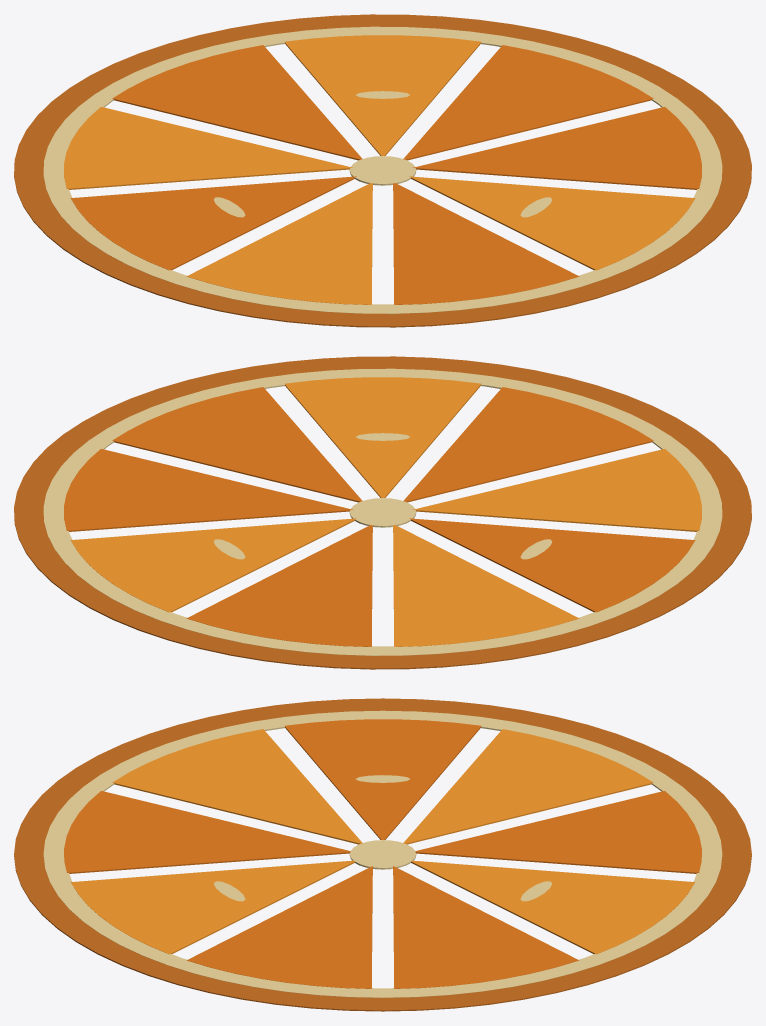
Rendered from fruit.glb.
3 views of the same model, one above another, from view 1: azimuth 30°, elevation 25°; view 2: azimuth 150°, elevation 25°; view 3: azimuth 270°, elevation 25° (orthographic).
Parts seen in each view (by area): view 1: OrangeRind.002, PithRing.002, JuiceSegment03.002, JuiceSegment08.002, JuiceSegment02.002, JuiceSegment00.002, JuiceSegment05.002, JuiceSegment06.002, JuiceSegment04.002, JuiceSegment07.002, JuiceSegment01.002, Core.002; view 2: OrangeRind.002, PithRing.002, JuiceSegment00.002, JuiceSegment05.002, JuiceSegment06.002, JuiceSegment08.002, JuiceSegment02.002, JuiceSegment03.002, JuiceSegment01.002, JuiceSegment04.002, JuiceSegment07.002, Core.002; view 3: OrangeRind.002, PithRing.002, JuiceSegment02.002, JuiceSegment06.002, JuiceSegment03.002, JuiceSegment05.002, JuiceSegment00.002, JuiceSegment08.002, JuiceSegment04.002, JuiceSegment01.002, JuiceSegment07.002, Core.002.
Boxes of the visible parts, x1,y1,x2,y2 form: OrangeRind.002: [14, 14, 751, 327]; PithRing.002: [43, 26, 722, 313]; JuiceSegment03.002: [64, 107, 353, 189]; JuiceSegment08.002: [412, 107, 701, 189]; JuiceSegment02.002: [112, 45, 362, 160]; JuiceSegment00.002: [403, 45, 653, 160]; JuiceSegment05.002: [186, 183, 372, 304]; JuiceSegment06.002: [393, 183, 579, 304]; JuiceSegment04.002: [70, 176, 356, 270]; JuiceSegment07.002: [409, 176, 695, 270]; JuiceSegment01.002: [284, 35, 481, 155]; Core.002: [349, 156, 416, 185]; OrangeRind.002: [14, 356, 751, 669]; PithRing.002: [43, 368, 722, 655]; JuiceSegment00.002: [64, 449, 353, 531]; JuiceSegment05.002: [412, 449, 701, 531]; JuiceSegment06.002: [403, 387, 653, 502]; JuiceSegment08.002: [112, 387, 362, 502]; JuiceSegment02.002: [186, 525, 372, 646]; JuiceSegment03.002: [393, 525, 579, 646]; JuiceSegment01.002: [70, 518, 356, 612]; JuiceSegment04.002: [409, 518, 695, 612]; JuiceSegment07.002: [284, 377, 481, 497]; Core.002: [349, 498, 416, 527]; OrangeRind.002: [14, 698, 751, 1011]; PithRing.002: [43, 710, 722, 997]; JuiceSegment02.002: [415, 791, 701, 873]; JuiceSegment06.002: [64, 791, 350, 873]; JuiceSegment03.002: [403, 729, 653, 844]; JuiceSegment05.002: [112, 729, 362, 844]; JuiceSegment00.002: [393, 866, 578, 988]; JuiceSegment08.002: [187, 866, 372, 988]; JuiceSegment04.002: [284, 719, 481, 839]; JuiceSegment01.002: [411, 860, 694, 954]; JuiceSegment07.002: [71, 860, 354, 954]; Core.002: [349, 840, 416, 869].
Size of the model in its own units: 2 by 0.005 by 2.
